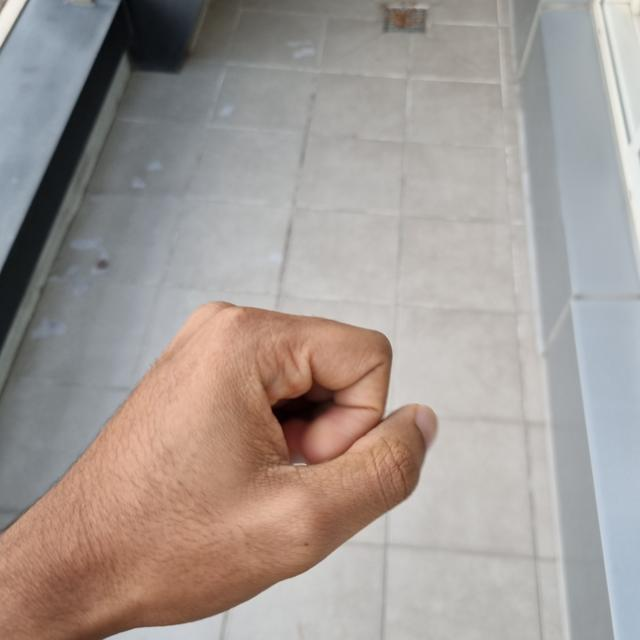Rock: (6, 304, 434, 635)
